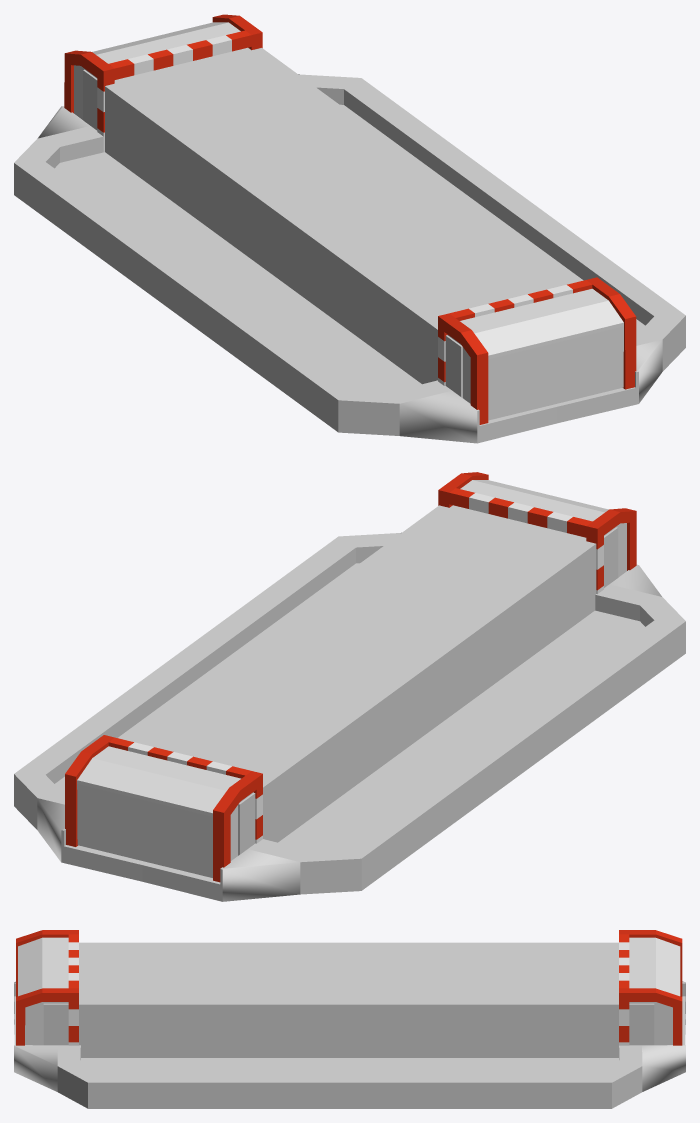
Rendered from saha1.fbx.
3 views of the same model, one above another, from view 1: azimuth 30°, elevation 25°; view 2: azimuth 150°, elevation 25°; view 3: azimuth 270°, elevation 25° (orthographic). The views are drawn at different scales.
Parts seen in each view (by area): view 1: Cube, Ground, Goal; view 2: Cube, Ground, Goal; view 3: Cube, Ground, Goal.
Part boxes in pixels (x1,y1,x2,y2): Cube: (83, 47, 580, 397); Ground: (14, 74, 685, 443); Goal: (64, 14, 636, 424); Cube: (120, 505, 618, 855); Ground: (14, 532, 685, 901); Goal: (65, 472, 636, 882); Cube: (43, 942, 654, 1057); Ground: (14, 981, 685, 1108); Goal: (16, 930, 682, 1045).
Size of the model in its own units: 11.04 by 22.89 by 2.96.
